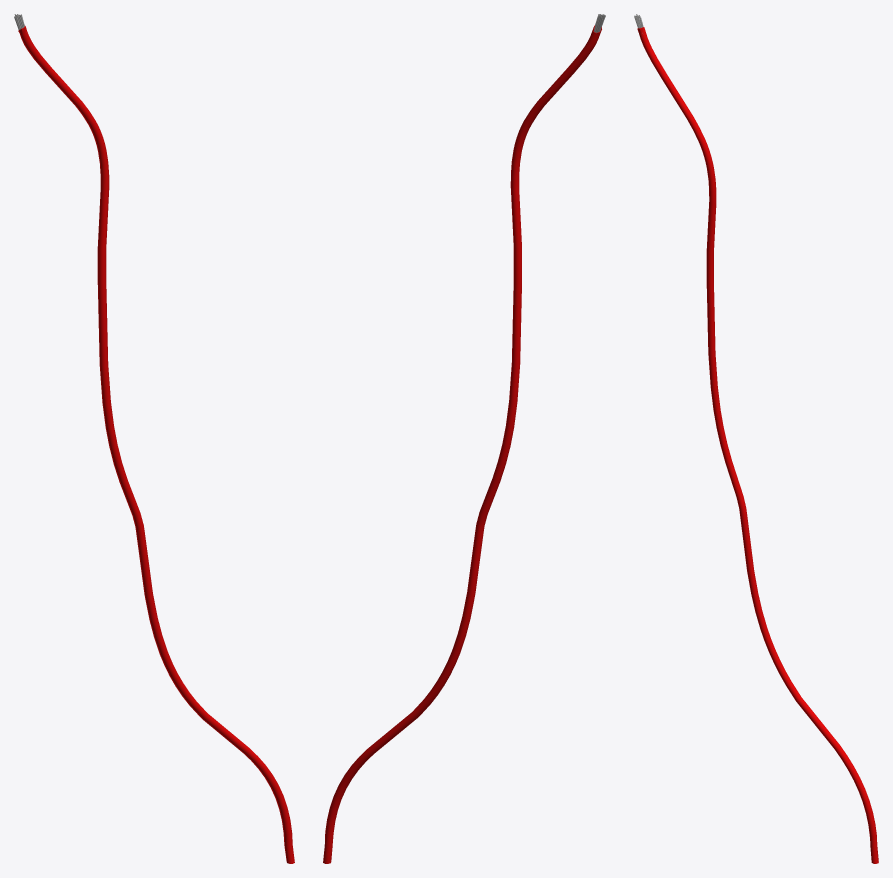
The model's file is CablePelao.fbx.
3 renders of one model, left to right at view 1: azimuth 30°, elevation 25°; view 2: azimuth 150°, elevation 25°; view 3: azimuth 330°, elevation 25°, orthographic. The views are drawn at different scales.
Visible parts, largest first — view 1: polySurface21; view 2: polySurface21; view 3: polySurface21.
Boxes of the visible parts, bbox=[...] form: polySurface21: bbox=[14, 14, 294, 863]; polySurface21: bbox=[323, 14, 605, 863]; polySurface21: bbox=[634, 14, 878, 863].
Bounding box in the file's own units: 75.67 × 235 × 2.66.
